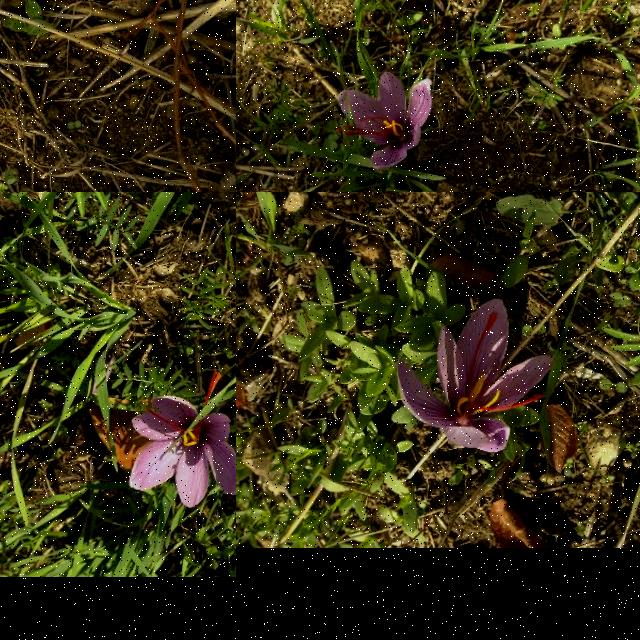flower: (396, 299, 556, 453), (130, 371, 236, 509), (336, 72, 434, 170)
